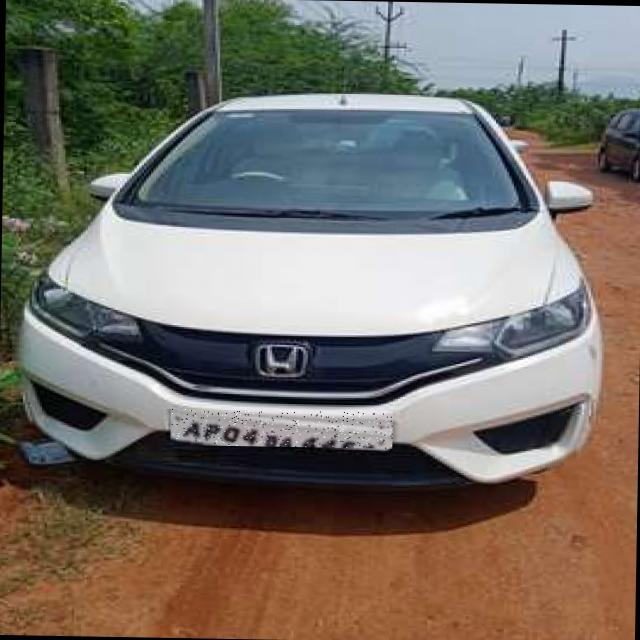Plate: (171, 410, 394, 450)
